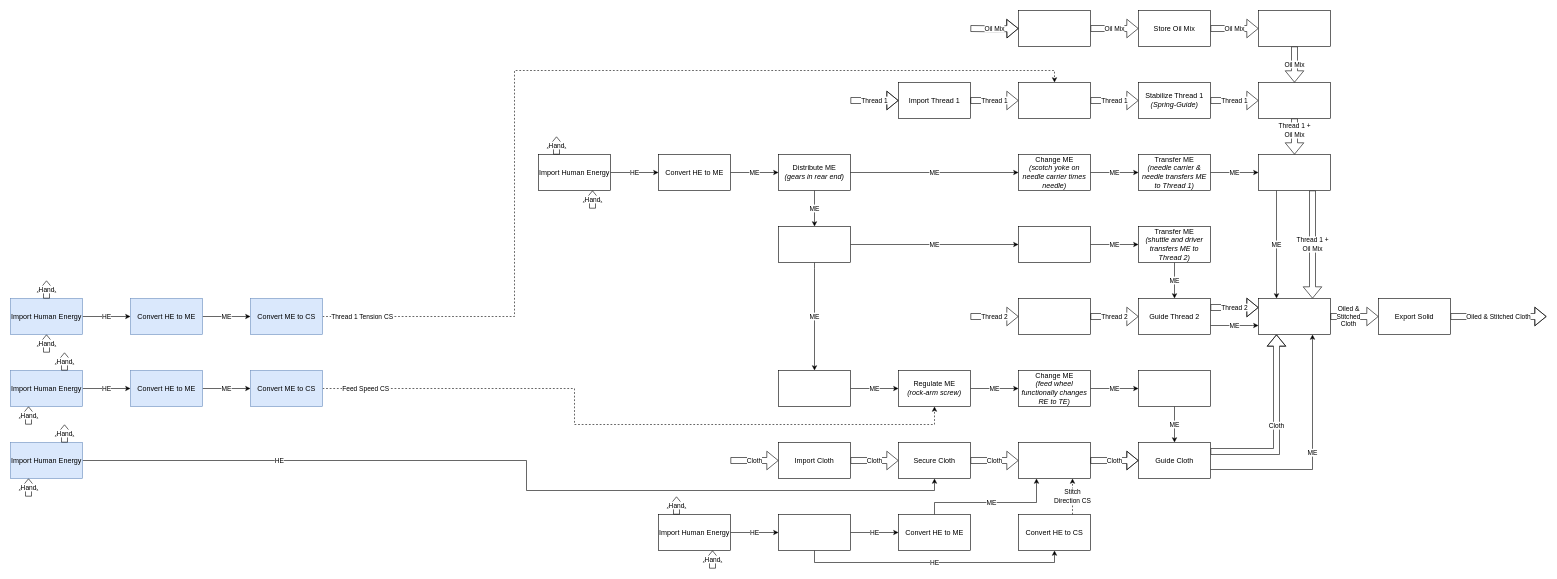
This 1557x579 diagram has some shape labels left out. Each missing label, with the centre of its shape:
Change ME (radial cam): the point at 814,388
Change ME (shuttle driver cam times the ME): the point at 1054,244
Couple Oil Mix & Thread 1: the point at 1294,100
Couple Solids: the point at 1294,316
Distribute HE: the point at 814,532
Distribute ME (cam shaft has two separate cams): the point at 814,244
Guide Thread 1 & Oil Mix: the point at 1294,172
Import Oil Mix: the point at 1054,28
Import Thread 2: the point at 1054,316
Regulate Cloth (the operator can change the stitch direction at will): the point at 1054,460
Regulate Thread 1: the point at 1054,100
Supply Oil Mix: the point at 1294,28
Transfer ME (feed wheel functionally transfers ME to Cloth): the point at 1174,388
